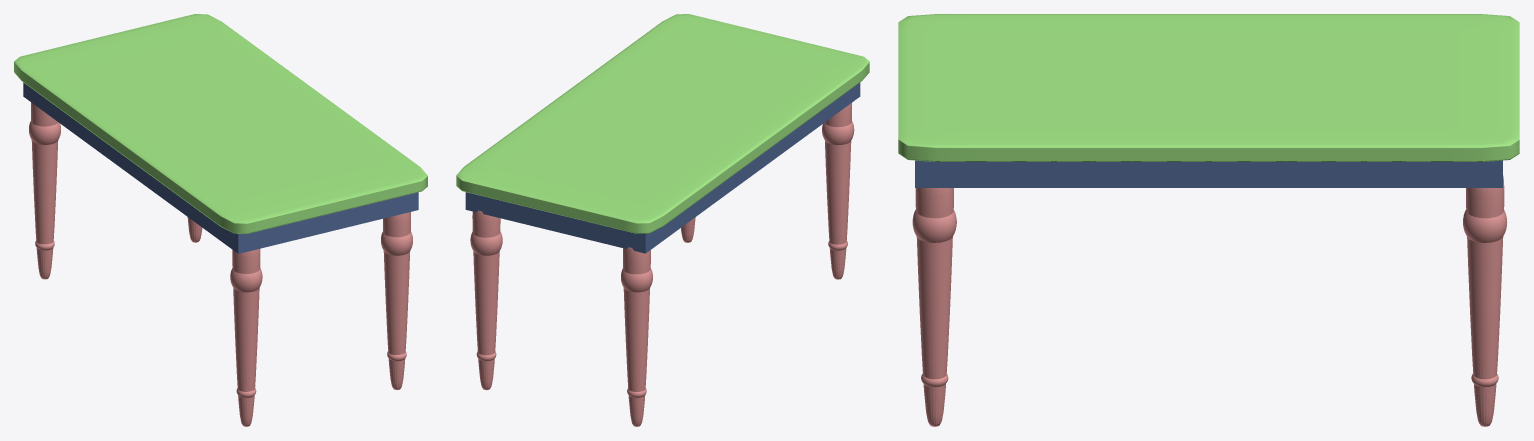
Rendered from Table.fbx.
3 views of the same model, side by side, from view 1: azimuth 30°, elevation 25°; view 2: azimuth 150°, elevation 25°; view 3: azimuth 270°, elevation 25° (orthographic). The views are drawn at different scales.
Visible parts, largest first — view 1: Table; view 2: Table; view 3: Table.
Part boxes in pixels (left/top/right/bottom): Table: left=14, top=14, right=427, bottom=426; Table: left=456, top=14, right=869, bottom=426; Table: left=898, top=14, right=1519, bottom=426.
Size of the model in its own units: 1.48 by 1.53 by 2.92.
